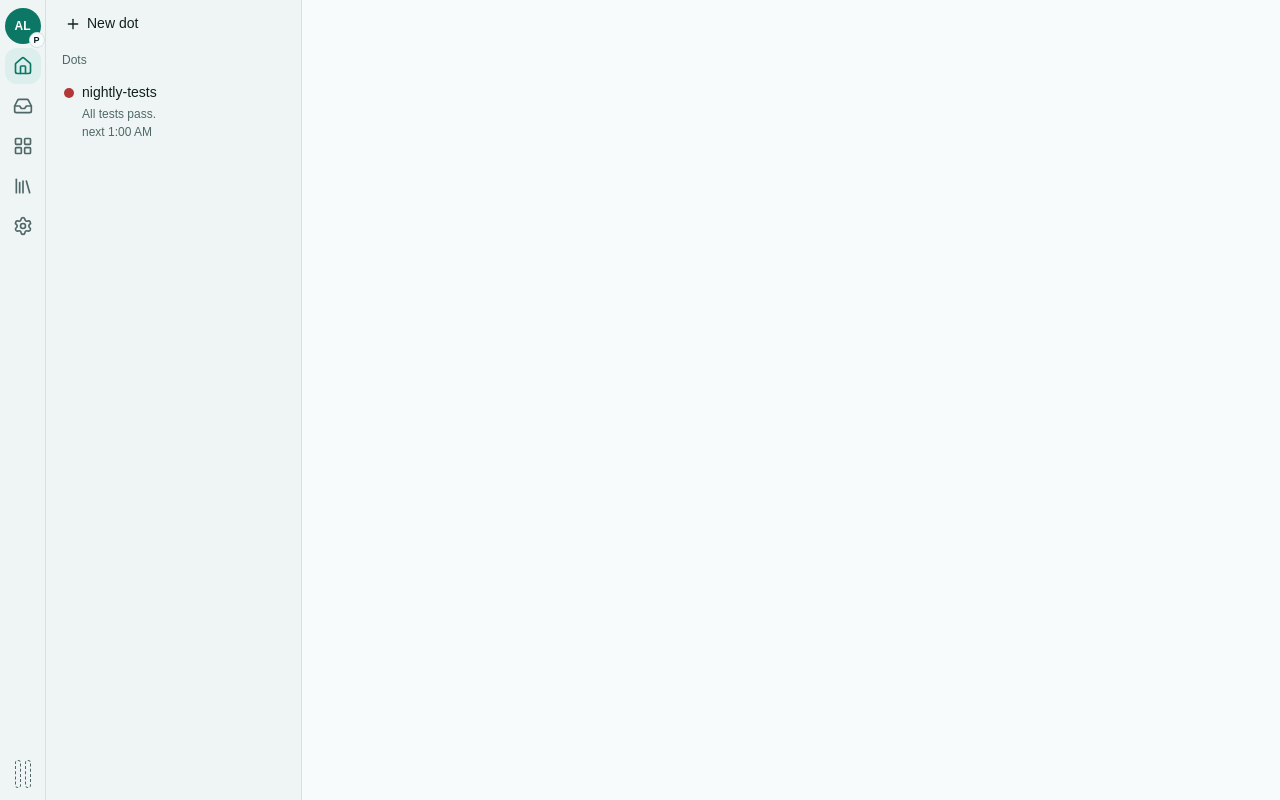
Test case: the account switcher › closes on Escape and on a click outside
The width and height of the screenshot is (1280, 800).
Click the button with aria-label "Account:" at (22, 26), box [4,8,40,44]
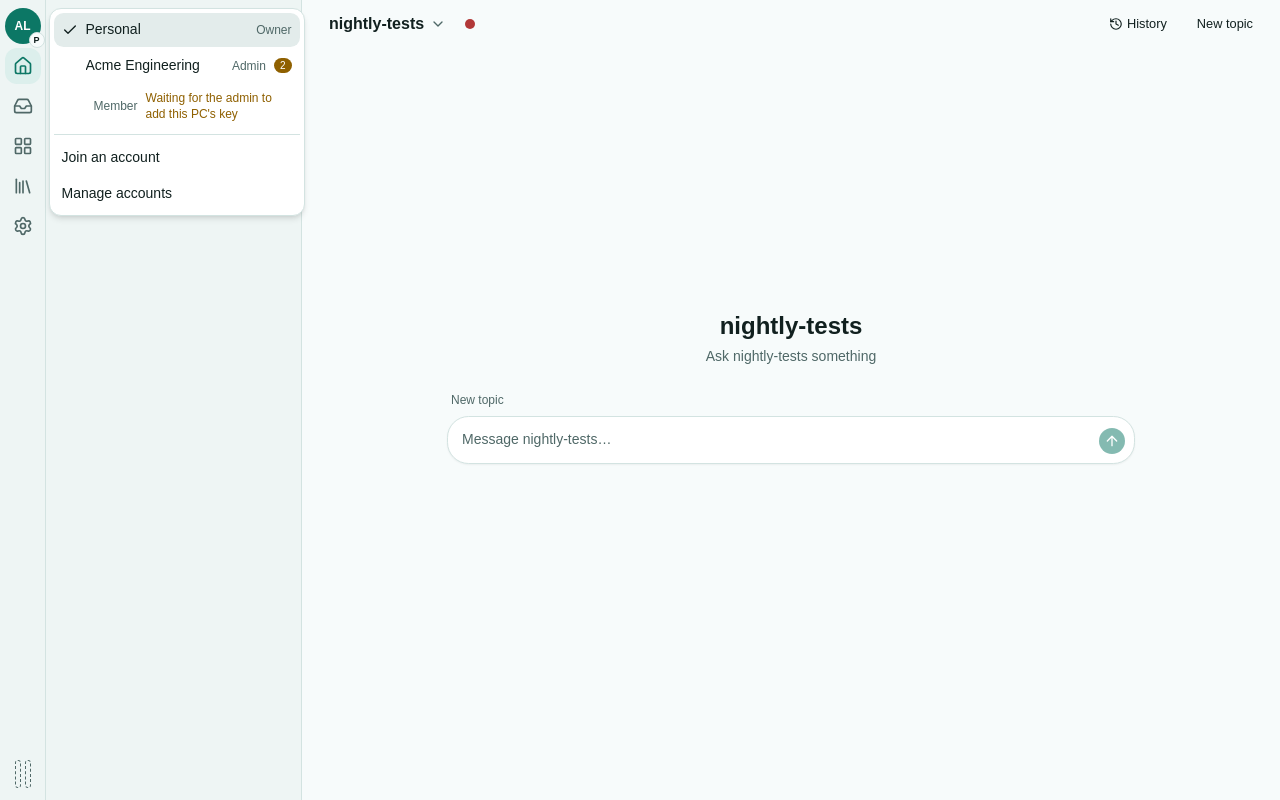
expect the menu is shown: met, box [48,8,304,216]
Press Escape
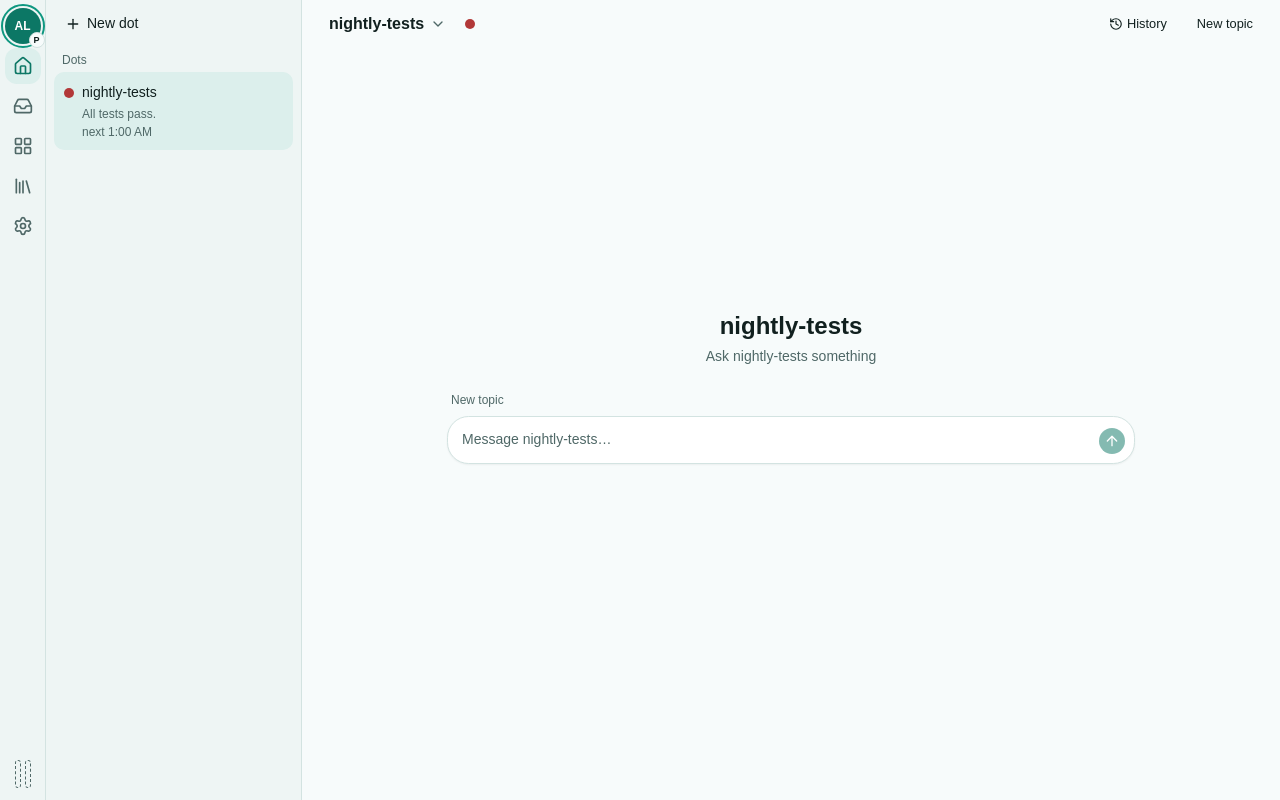
expect the menu is gone: met
Click the button with aria-label "Account:" at (22, 26), box [4,8,40,44]
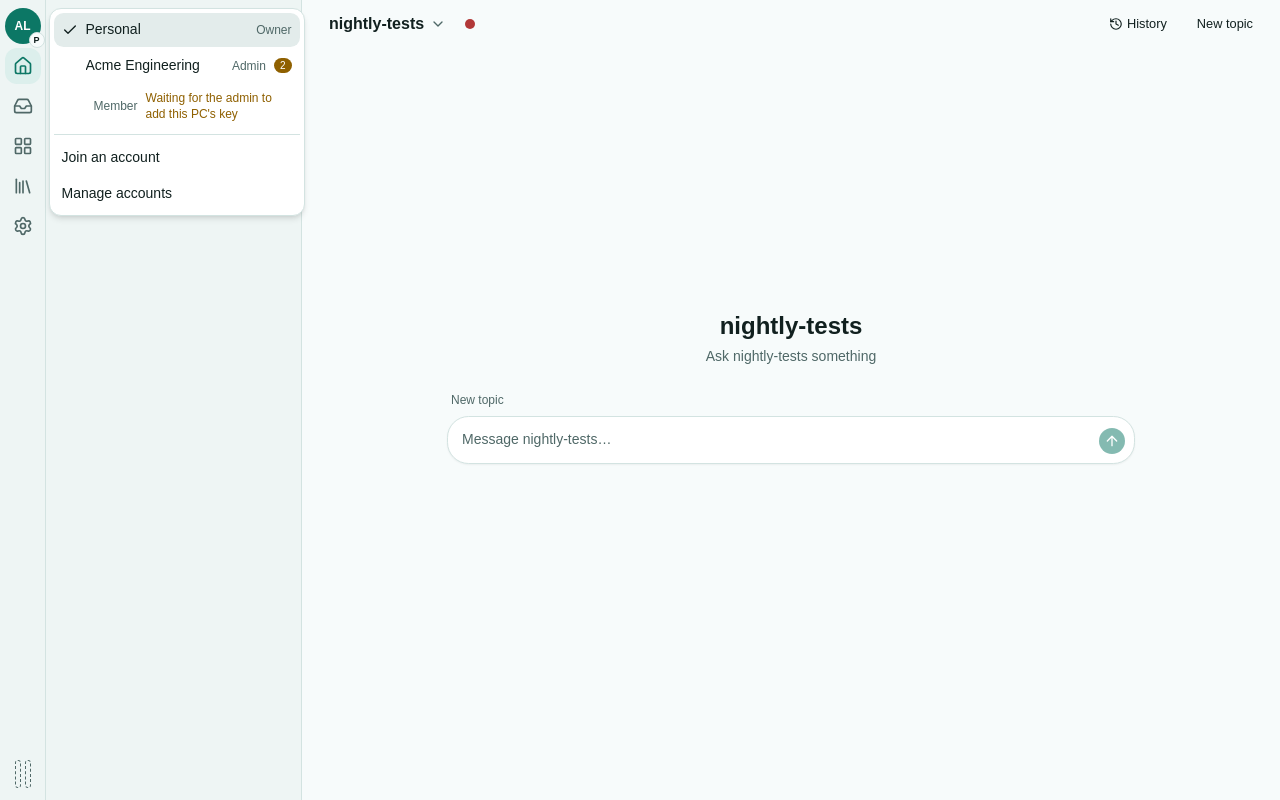
Click the element that starts with "Personal" at (640, 400), box [0,0,1279,799]
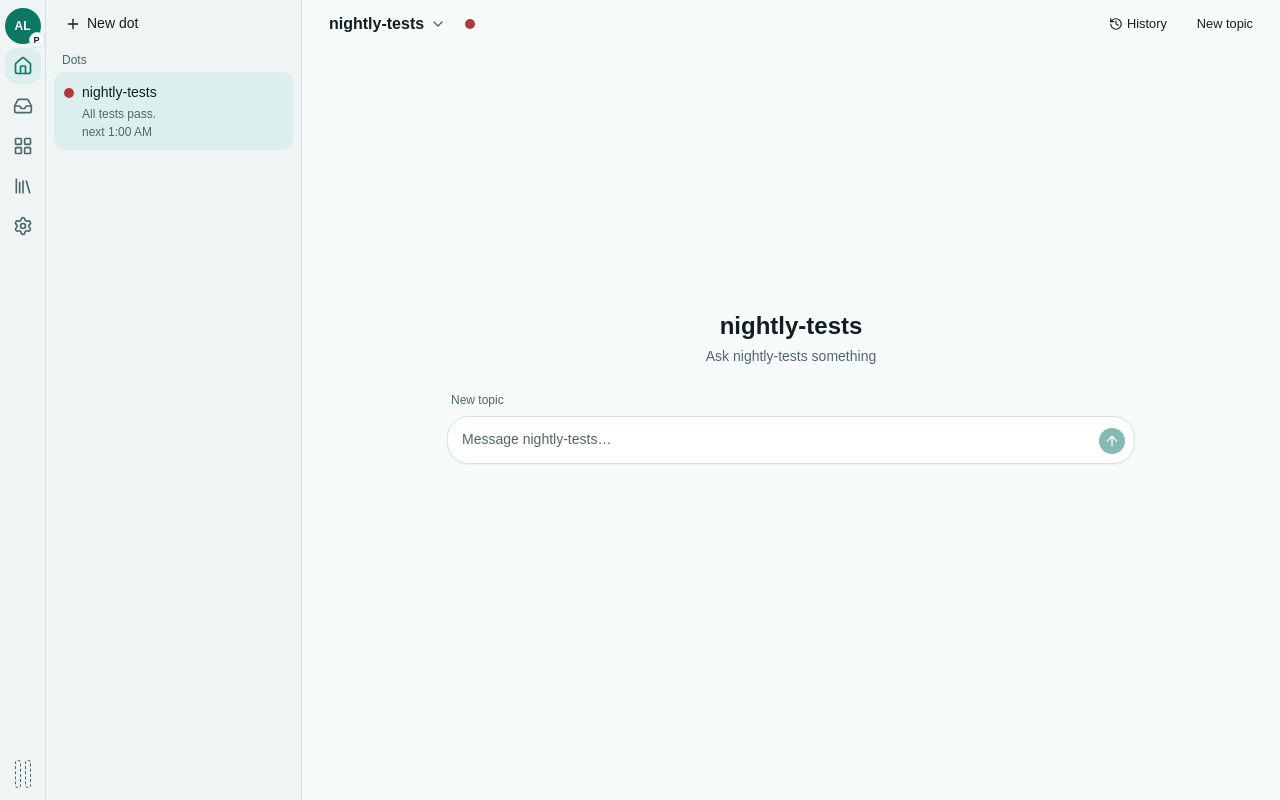
expect the menu is gone: met
